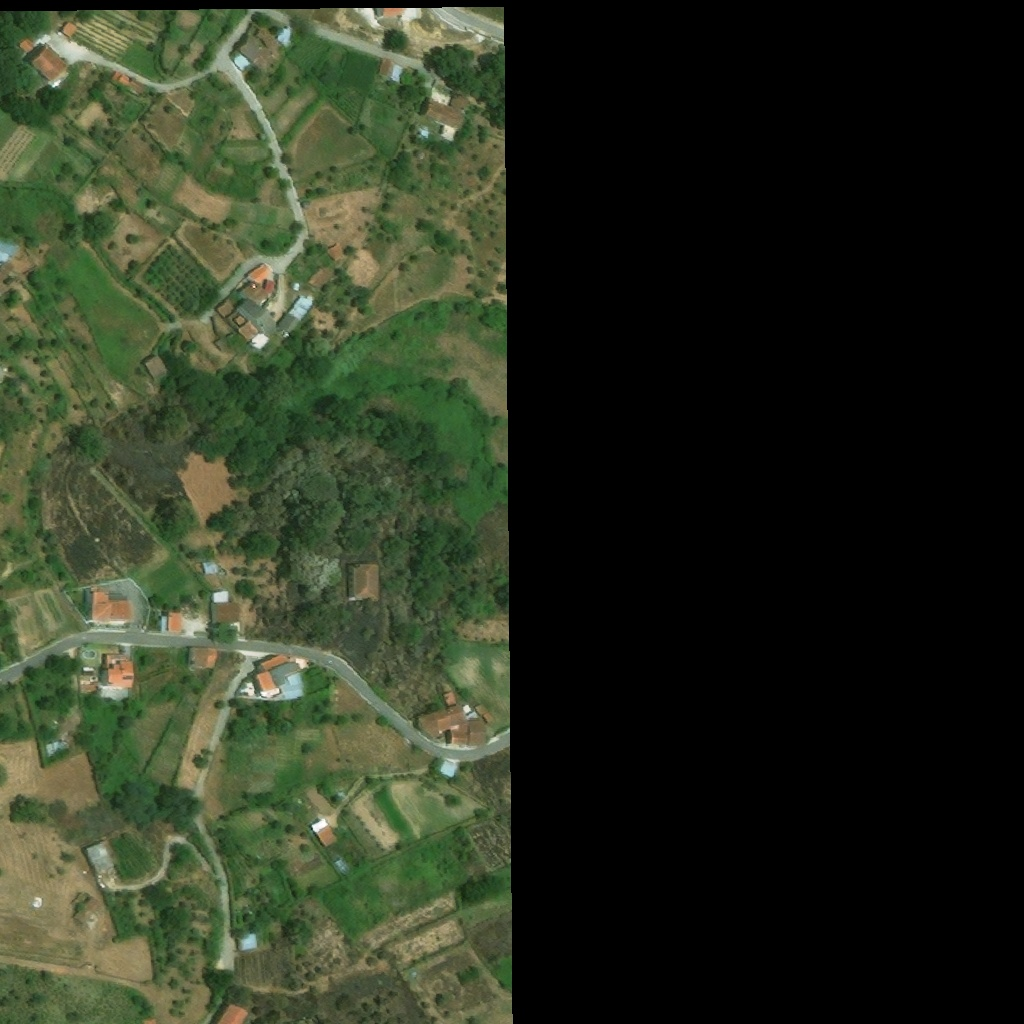0 no-damage: (415, 691, 493, 746), (251, 652, 309, 700), (19, 37, 69, 84), (420, 96, 470, 143), (230, 34, 277, 74), (235, 298, 279, 337), (85, 590, 132, 624), (99, 653, 136, 692), (278, 297, 315, 334), (347, 562, 382, 600), (211, 587, 240, 624), (71, 893, 104, 925), (209, 998, 251, 1023), (86, 840, 117, 871), (238, 282, 275, 306), (310, 817, 339, 847), (140, 351, 168, 380), (187, 647, 218, 672), (72, 666, 98, 693), (118, 74, 148, 97), (379, 58, 405, 84), (254, 31, 282, 54), (246, 262, 275, 284), (235, 315, 259, 340), (42, 739, 69, 759), (159, 611, 182, 633), (237, 932, 259, 953), (333, 857, 352, 877), (437, 759, 458, 776), (279, 26, 297, 45), (251, 334, 271, 351), (216, 301, 235, 318), (327, 242, 343, 262), (61, 22, 78, 38), (214, 339, 228, 353), (209, 558, 218, 571), (421, 129, 431, 137)
3 destroyed: (7, 602, 17, 611), (29, 612, 38, 619)
4 un-classified: (207, 938, 235, 976), (371, 0, 410, 21)
